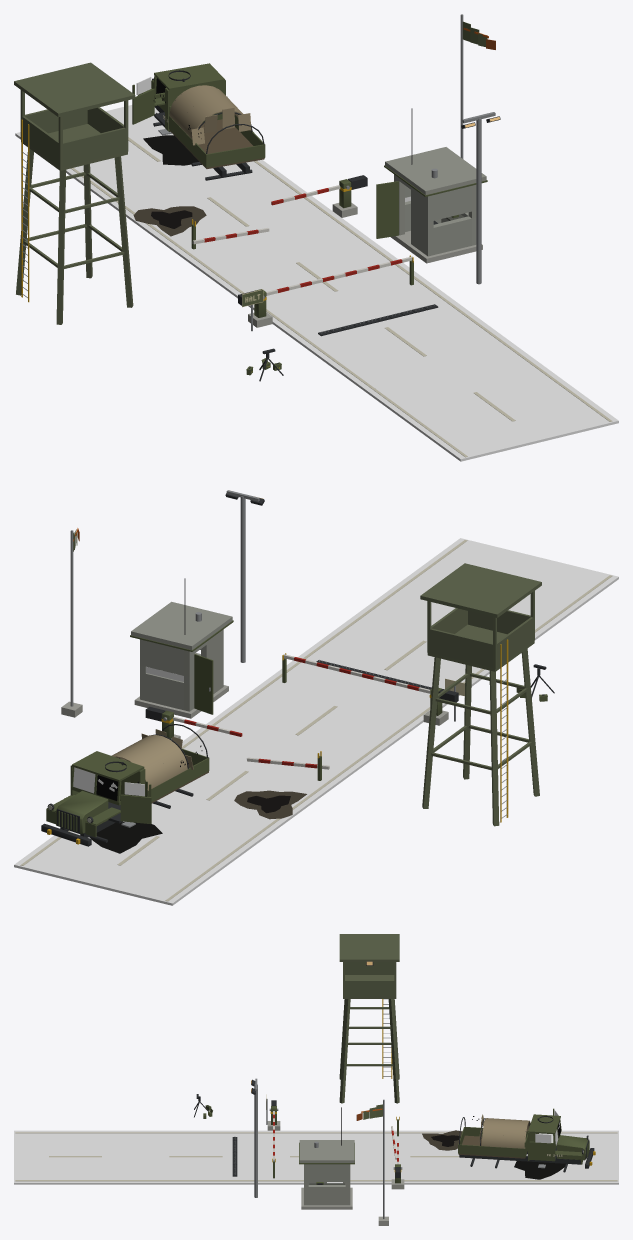
File: checkpoint.glb
The picture shows the model from 3 angles, top to bottom: view 1: azimuth 30°, elevation 25°; view 2: azimuth 150°, elevation 25°; view 3: azimuth 270°, elevation 25°; orthographic projection. The views are drawn at different scales.
Parts seen in each view (by area): view 1: C0_0_lod0, C-1_0_lod0, C0_-1_lod0, C-1_-1_lod0; view 2: C0_0_lod0, C-1_0_lod0, C0_-1_lod0, C-1_-1_lod0; view 3: C0_0_lod0, C-1_0_lod0, C0_-1_lod0, C-1_-1_lod0.
Part boxes in pixels (bbox=[...]): C0_0_lod0: bbox=[15, 14, 618, 461]; C-1_0_lod0: bbox=[14, 62, 467, 457]; C0_-1_lod0: bbox=[345, 112, 515, 421]; C-1_-1_lod0: bbox=[238, 273, 379, 381]; C0_0_lod0: bbox=[14, 528, 618, 905]; C-1_0_lod0: bbox=[149, 563, 612, 901]; C0_-1_lod0: bbox=[195, 490, 426, 693]; C-1_-1_lod0: bbox=[350, 664, 554, 725]; C0_0_lod0: bbox=[14, 1099, 618, 1225]; C-1_0_lod0: bbox=[15, 934, 617, 1153]; C0_-1_lod0: bbox=[49, 1078, 326, 1197]; C-1_-1_lod0: bbox=[194, 1094, 280, 1156].
Size of what is drawn, in the model's own units: 19.93 by 9.02 by 34.14.
